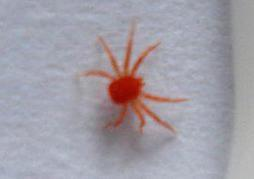tiny_pests: (71, 12, 201, 147)
